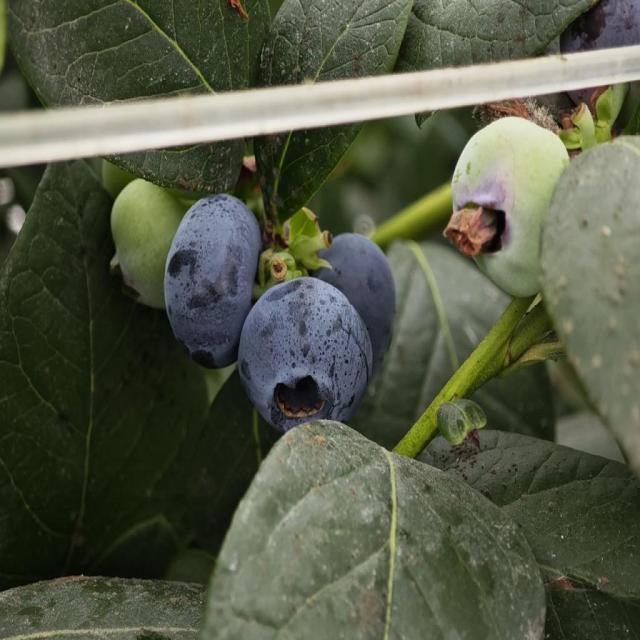RipeBlueBerry: (242, 274, 372, 432), (167, 189, 258, 369)
UnripeBlueBerry: (452, 114, 572, 300), (112, 175, 189, 313)
